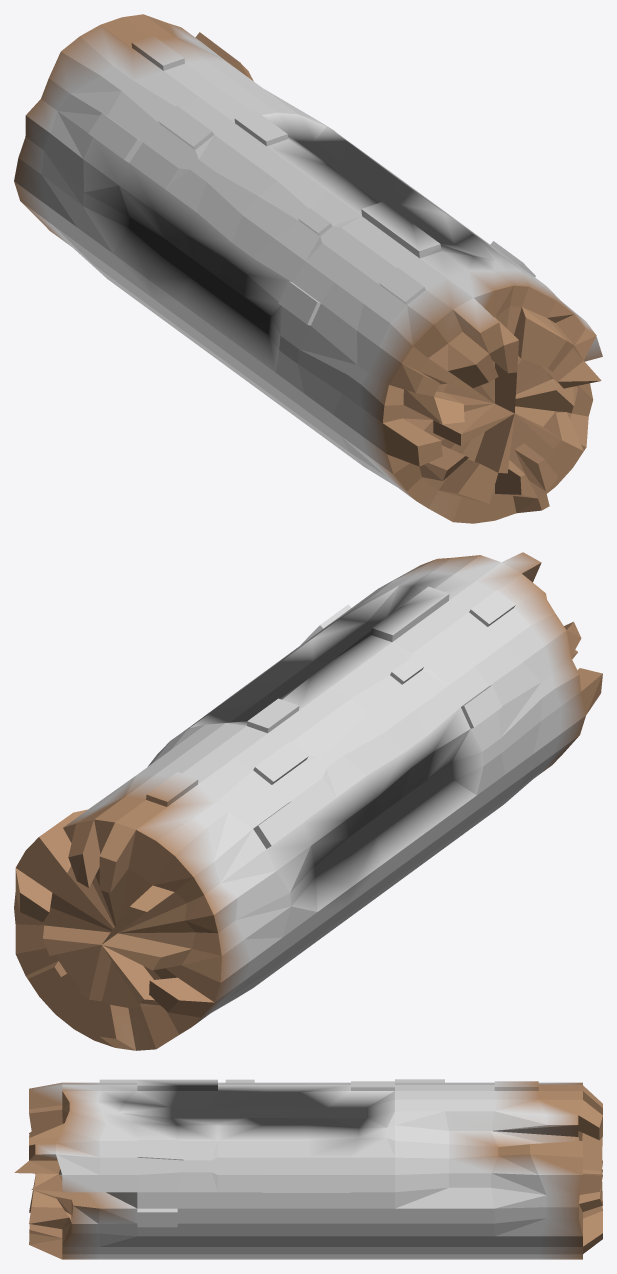
The model's file is FBX_Log.fbx.
3 views of the same model, one above another, from view 1: azimuth 30°, elevation 25°; view 2: azimuth 150°, elevation 25°; view 3: azimuth 270°, elevation 25° (orthographic). The views are drawn at different scales.
Visible parts, largest first — view 1: FBX_Log; view 2: FBX_Log; view 3: FBX_Log.
Part boxes in pixels (box(x1,y1,x2,y2)): FBX_Log: box(14, 14, 602, 523); FBX_Log: box(14, 552, 602, 1050); FBX_Log: box(14, 1079, 602, 1259).
Size of the model in its own units: 208 by 206 by 665.
